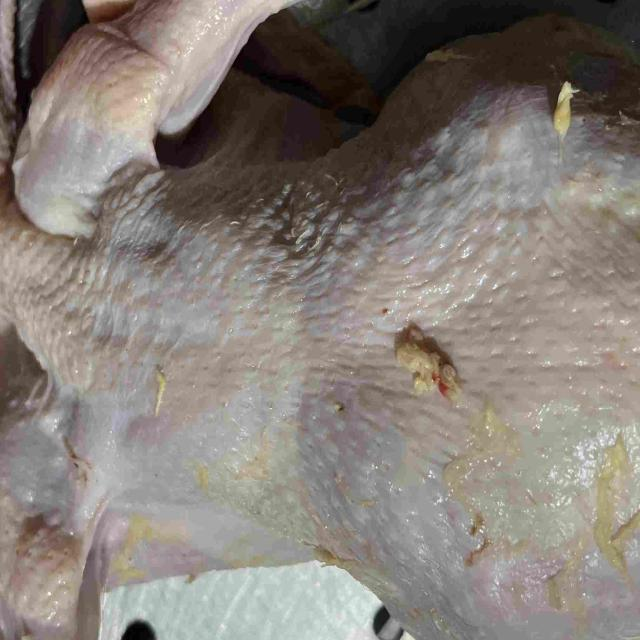back: (120, 108, 640, 571)
leg: (378, 17, 640, 135), (383, 575, 640, 640)
wing: (20, 0, 293, 226), (0, 400, 117, 640)
